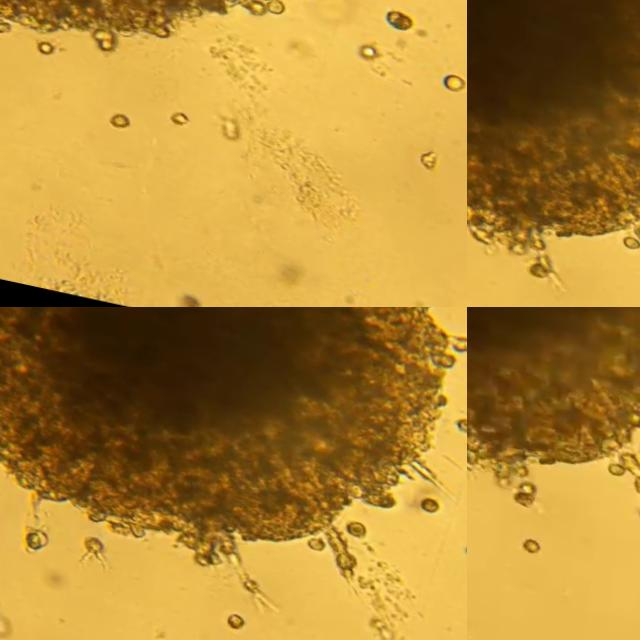cell: (73, 534, 104, 567), (18, 526, 44, 551), (380, 8, 406, 29), (613, 449, 634, 472), (336, 518, 360, 538), (503, 488, 526, 505), (410, 150, 429, 170), (436, 71, 456, 89), (624, 222, 640, 244), (349, 42, 372, 57), (528, 252, 546, 271), (101, 110, 121, 127), (217, 613, 234, 630), (512, 538, 530, 553), (509, 481, 527, 496), (626, 475, 640, 494), (598, 460, 617, 474), (521, 262, 539, 276), (414, 496, 430, 511), (451, 416, 467, 431), (613, 235, 632, 247), (29, 38, 45, 52), (300, 535, 316, 549), (162, 109, 177, 123), (628, 506, 640, 520), (457, 542, 467, 556), (634, 445, 640, 458)
tumor_mass: (467, 307, 640, 487)
